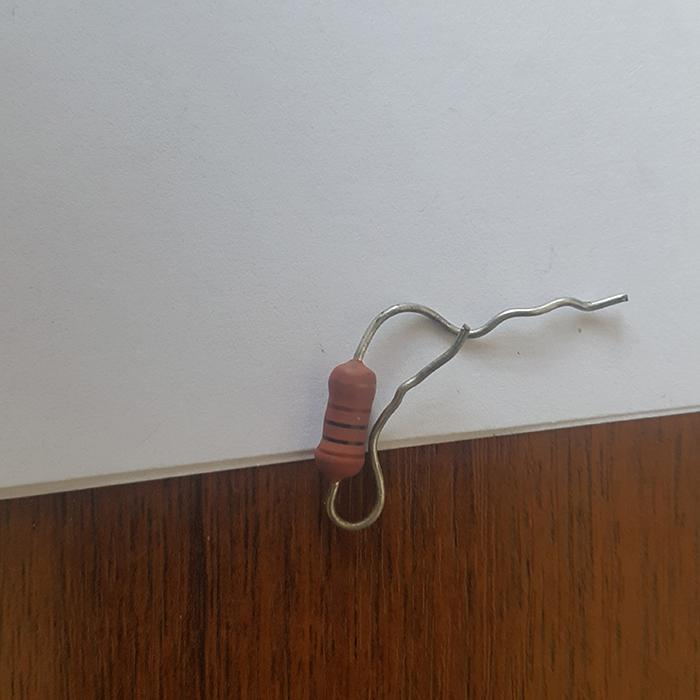resistor: (314, 358, 376, 482)
